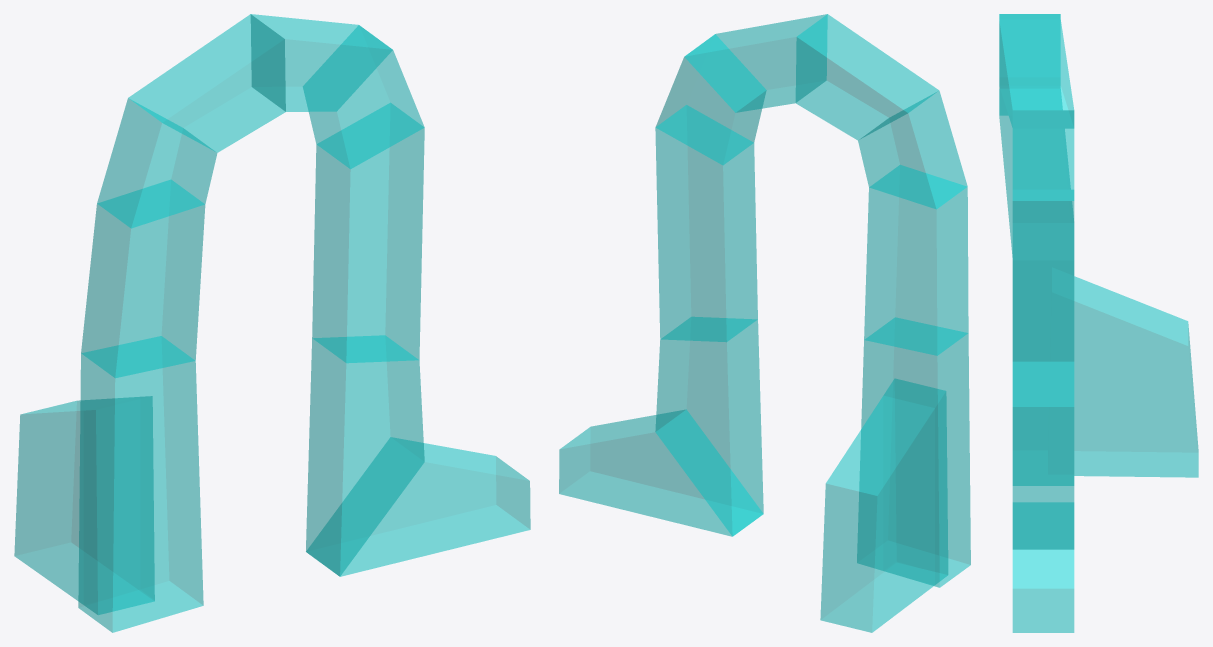
The model's file is SM_Env_Ruin_03_Collision_01.fbx.
The picture shows the model from 3 angles, left to right: view 1: azimuth 30°, elevation 25°; view 2: azimuth 150°, elevation 25°; view 3: azimuth 270°, elevation 25°; orthographic projection. The views are drawn at different scales.
Parts seen in each view (by area): view 1: SM_Env_Ruin_03_Collision_01; view 2: SM_Env_Ruin_03_Collision_01; view 3: SM_Env_Ruin_03_Collision_01.
Part boxes in pixels (x1=…): SM_Env_Ruin_03_Collision_01: x1=14, y1=14, x2=530, y2=632; SM_Env_Ruin_03_Collision_01: x1=559, y1=14, x2=970, y2=632; SM_Env_Ruin_03_Collision_01: x1=999, y1=14, x2=1198, y2=632.
Size of the model in its own units: 427 by 546 by 196.
